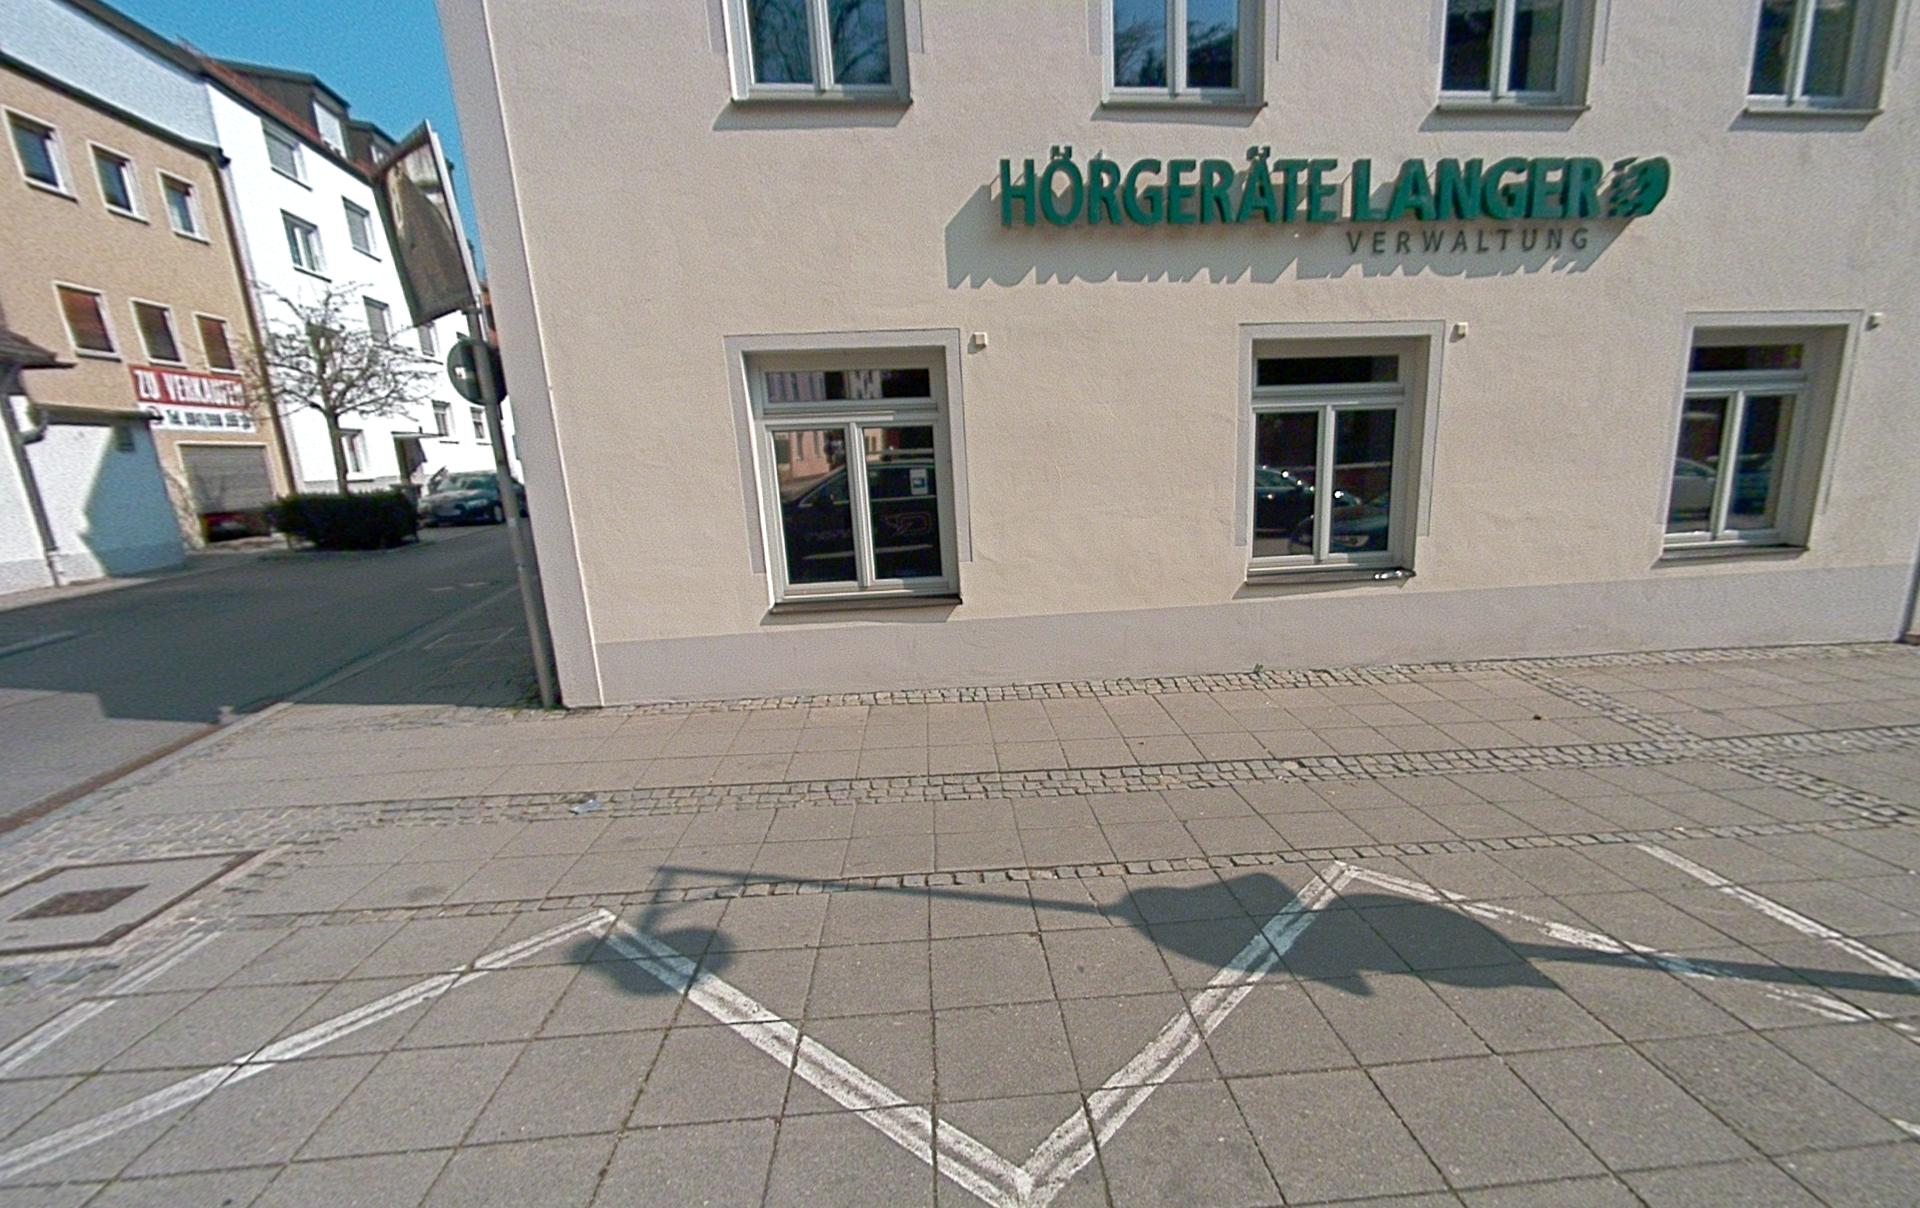car: (779, 448, 939, 579), (1255, 465, 1362, 536), (1290, 490, 1391, 553), (417, 468, 526, 526), (1671, 456, 1718, 518)
